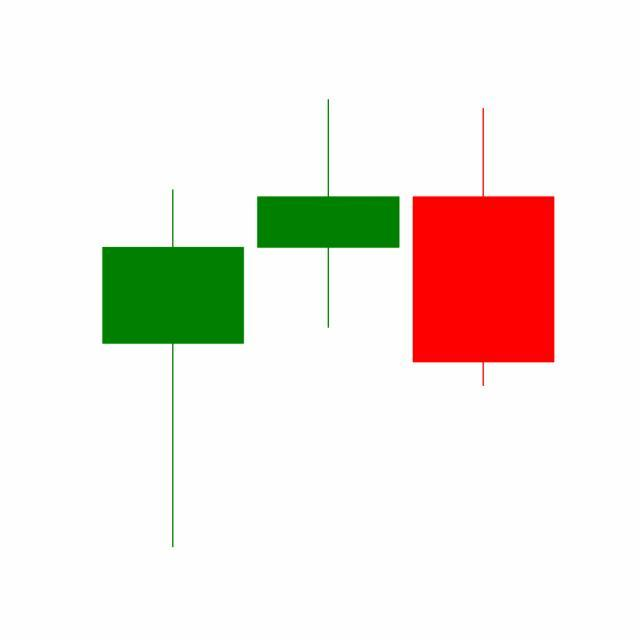Spinning Top: (250, 97, 407, 331)
